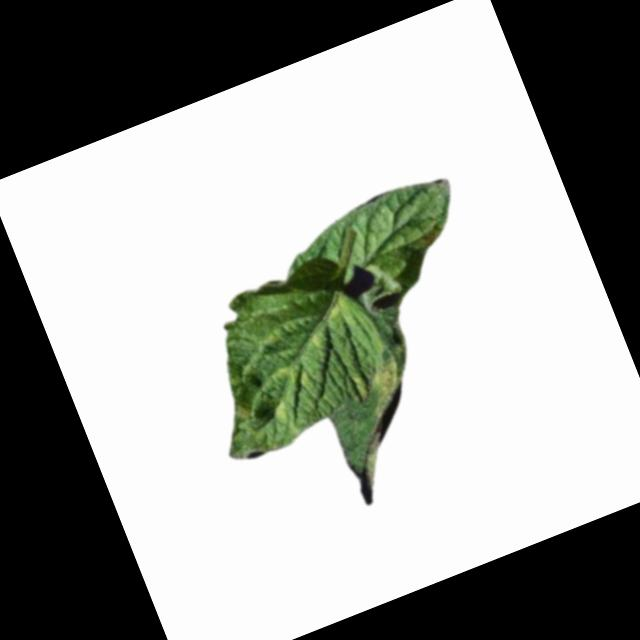Leaf_Mold: (174, 252, 404, 466), (346, 353, 415, 421)
